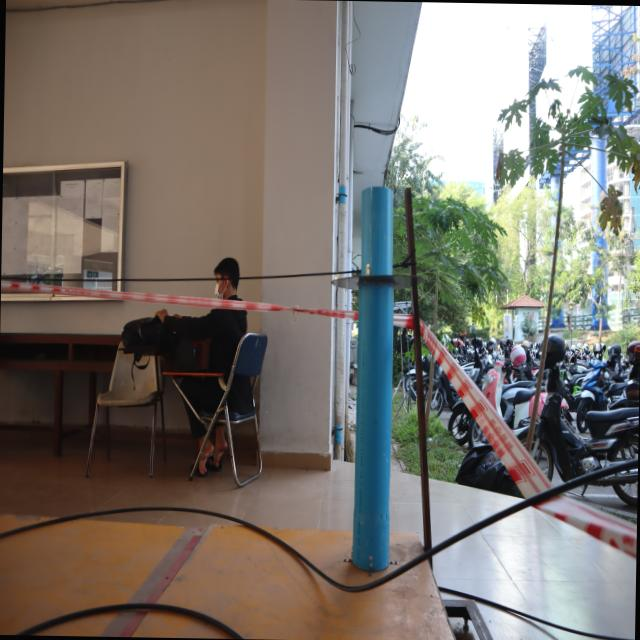pole: (322, 178, 425, 364)
